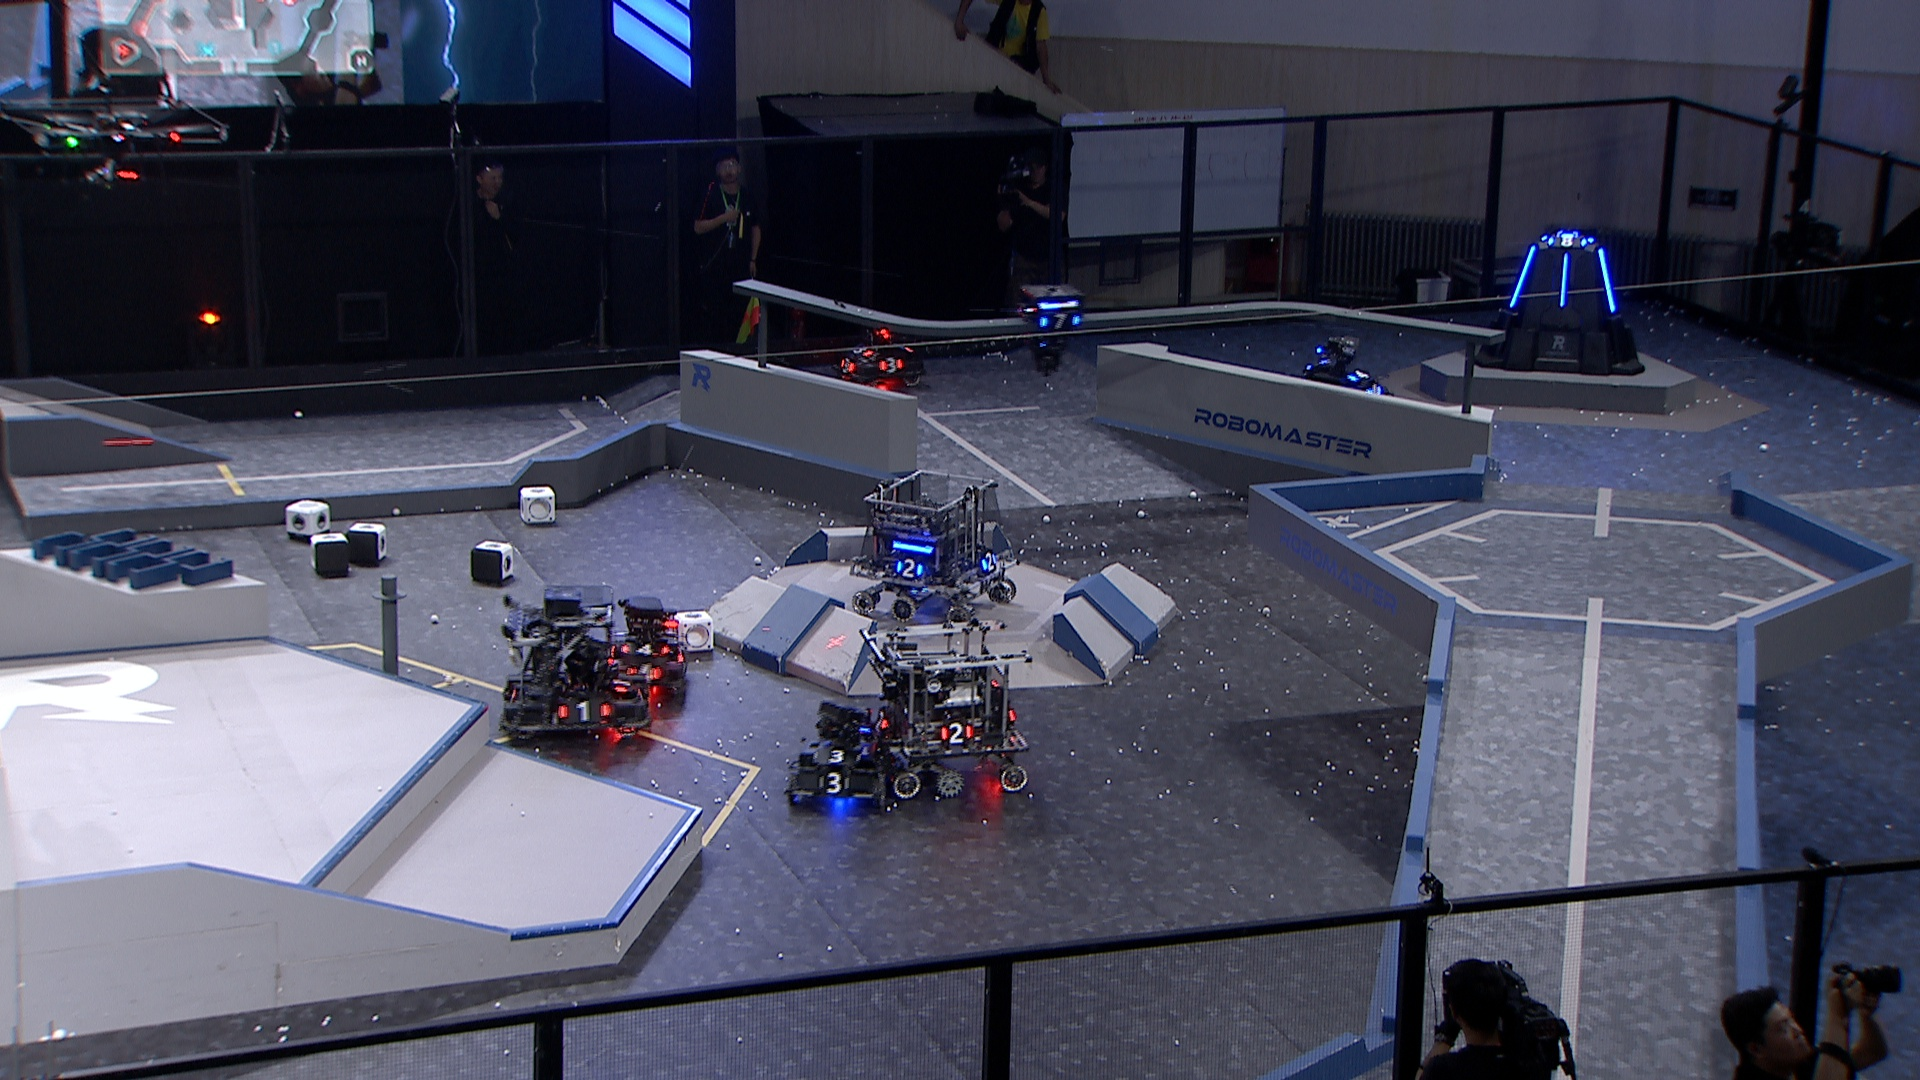armor: (1505, 244, 1542, 311), (1593, 245, 1617, 314), (553, 700, 612, 725), (808, 745, 861, 767), (935, 719, 975, 746), (1557, 251, 1575, 310), (618, 640, 671, 657), (626, 661, 662, 684), (1038, 313, 1087, 330), (1544, 232, 1589, 251), (816, 771, 852, 794), (869, 705, 893, 733), (894, 556, 923, 579), (837, 352, 860, 377), (876, 353, 903, 372), (852, 343, 880, 361), (1344, 367, 1371, 384), (978, 549, 1000, 571), (611, 671, 629, 695), (1362, 382, 1385, 398)
base: (1474, 228, 1648, 380)
car: (864, 615, 1038, 802), (847, 465, 1017, 626), (496, 579, 647, 744), (781, 700, 903, 816), (595, 589, 688, 703), (1298, 332, 1396, 409), (828, 320, 928, 392)
watcher: (1021, 280, 1088, 378)
